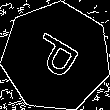P_SE: (25, 28, 87, 85)
